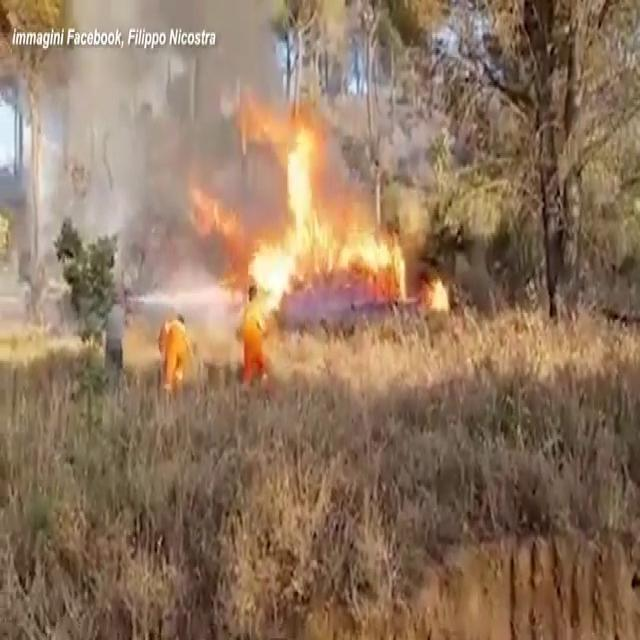Fire: (202, 94, 402, 352)
Smoke: (7, 0, 274, 297)
